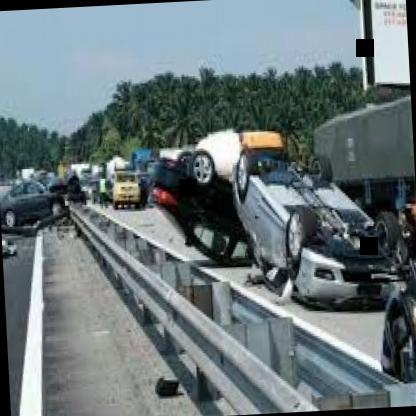accident: (157, 140, 416, 319), (0, 168, 82, 230)
